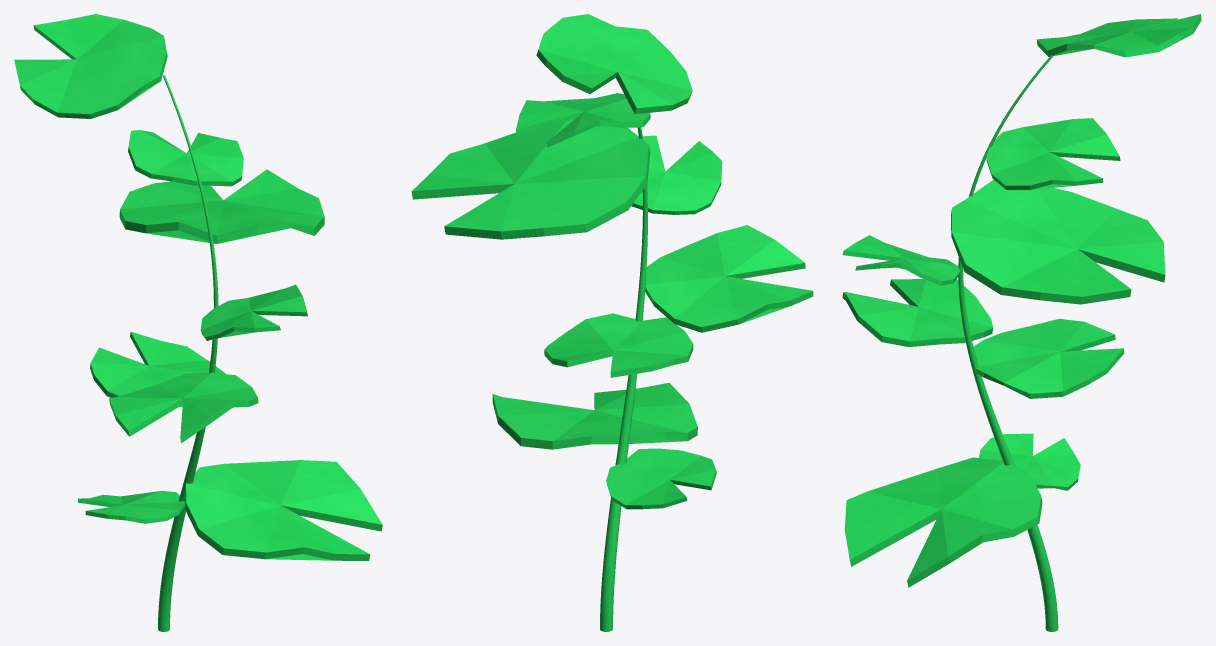
The model's file is circle plant no mini.fbx.
The picture shows the model from 3 angles, left to right: view 1: azimuth 30°, elevation 25°; view 2: azimuth 150°, elevation 25°; view 3: azimuth 270°, elevation 25°; orthographic projection. The views are drawn at different scales.
Visible parts, largest first — view 1: Cylinder.008, Cylinder.001, Cylinder.005, Cylinder.009, Cylinder.007, Cylinder.010, Cylinder.002, NurbsPath.014, Cylinder.006; view 2: Cylinder.005, Cylinder.009, Cylinder.001, Cylinder.008, Cylinder.010, Cylinder.006, Cylinder.002, Cylinder.007, NurbsPath.014; view 3: Cylinder.005, Cylinder.008, Cylinder.010, Cylinder.007, Cylinder.009, Cylinder.001, NurbsPath.014, Cylinder.006, Cylinder.002.
Boxes of the visible parts, x1=… form: Cylinder.008: x1=185, y1=460, x2=382, y2=560; Cylinder.001: x1=14, y1=14, x2=167, y2=118; Cylinder.005: x1=119, y1=169, x2=324, y2=243; Cylinder.009: x1=109, y1=372, x2=258, y2=443; Cylinder.007: x1=128, y1=130, x2=243, y2=186; Cylinder.010: x1=90, y1=331, x2=225, y2=406; Cylinder.002: x1=200, y1=284, x2=307, y2=340; NurbsPath.014: x1=158, y1=75, x2=218, y2=631; Cylinder.006: x1=78, y1=491, x2=184, y2=523; Cylinder.005: x1=411, y1=119, x2=650, y2=239; Cylinder.009: x1=645, y1=225, x2=813, y2=332; Cylinder.001: x1=536, y1=14, x2=692, y2=114; Cylinder.008: x1=492, y1=382, x2=697, y2=449; Cylinder.010: x1=544, y1=313, x2=693, y2=377; Cylinder.006: x1=606, y1=448, x2=716, y2=509; Cylinder.002: x1=631, y1=135, x2=722, y2=214; Cylinder.007: x1=516, y1=93, x2=650, y2=147; NurbsPath.014: x1=600, y1=127, x2=647, y2=631; Cylinder.005: x1=951, y1=179, x2=1165, y2=304; Cylinder.008: x1=844, y1=457, x2=1042, y2=587; Cylinder.010: x1=973, y1=318, x2=1124, y2=398; Cylinder.007: x1=986, y1=118, x2=1120, y2=189; Cylinder.009: x1=842, y1=279, x2=993, y2=347; Cylinder.001: x1=1036, y1=14, x2=1201, y2=57; NurbsPath.014: x1=958, y1=55, x2=1058, y2=631; Cylinder.006: x1=978, y1=433, x2=1080, y2=490; Cylinder.002: x1=842, y1=235, x2=960, y2=285.
Bounding box in the file's own units: 118 × 246 × 135.
